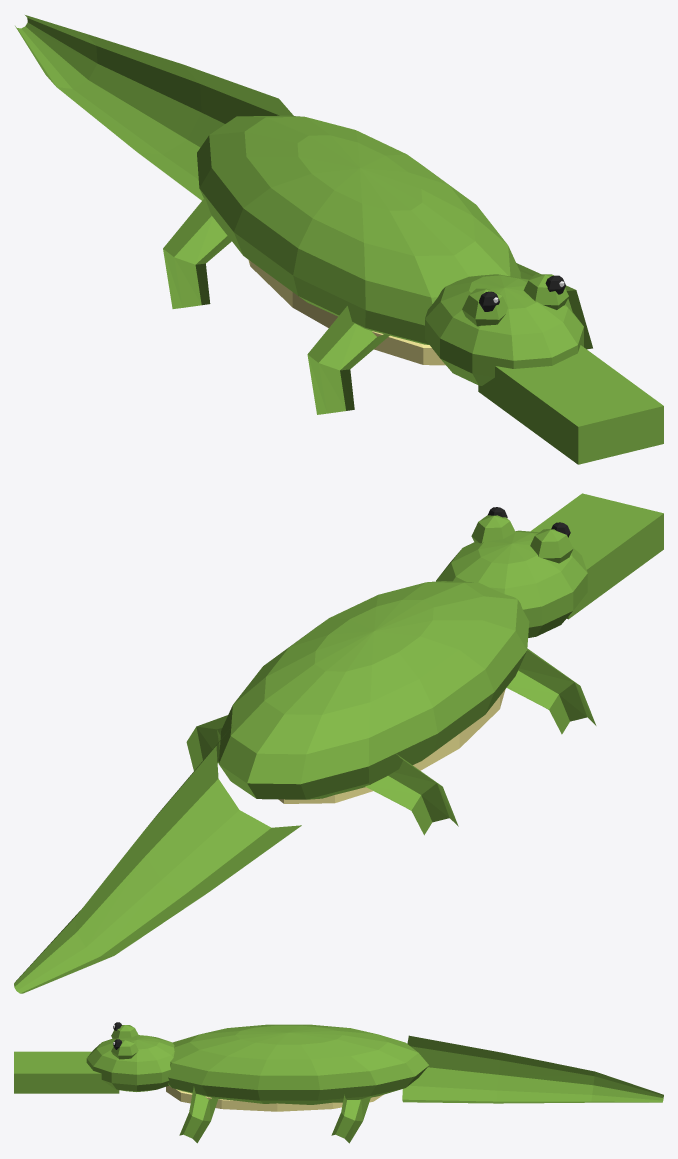
Rendered from odla.glb.
The picture shows the model from 3 angles, top to bottom: view 1: azimuth 30°, elevation 25°; view 2: azimuth 150°, elevation 25°; view 3: azimuth 270°, elevation 25°; orthographic projection. The views are drawn at different scales.
Parts seen in each view (by area): view 1: odla; view 2: odla; view 3: odla.
Part boxes in pixels (bbox=[...]): odla: bbox=[15, 15, 663, 464]; odla: bbox=[14, 493, 663, 993]; odla: bbox=[14, 1022, 663, 1143].
Size of the model in its own units: 0.4867 by 0.2711 by 1.94.
